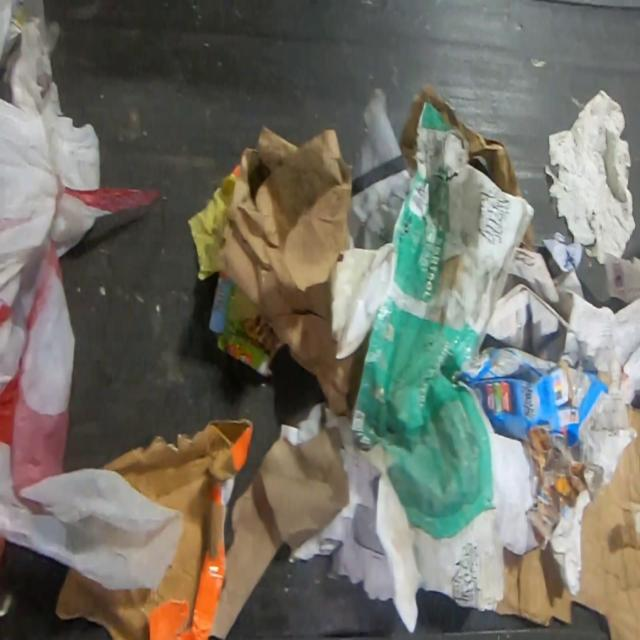cardboard: (52, 417, 350, 639), (187, 122, 370, 422), (458, 343, 629, 544), (498, 407, 640, 640), (398, 84, 523, 197), (208, 270, 280, 380), (519, 223, 537, 253)
